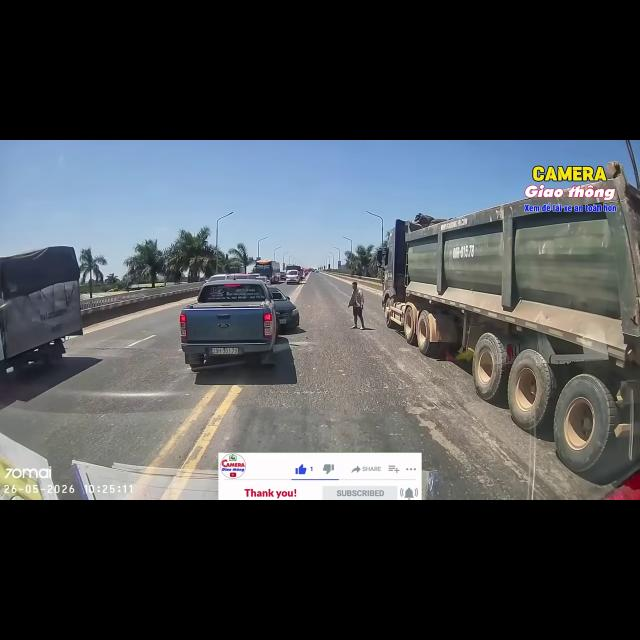car: (180, 279, 277, 372), (267, 286, 299, 332), (286, 270, 300, 283), (227, 273, 256, 279), (207, 274, 227, 281), (256, 276, 272, 284), (279, 272, 285, 280)
truck: (376, 162, 639, 483), (0, 246, 82, 377)
